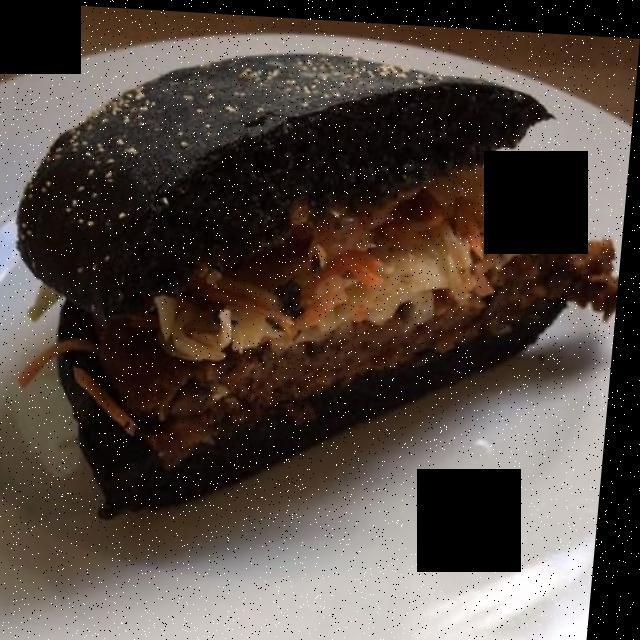bread: (17, 49, 552, 522)
salad: (175, 237, 472, 333)
